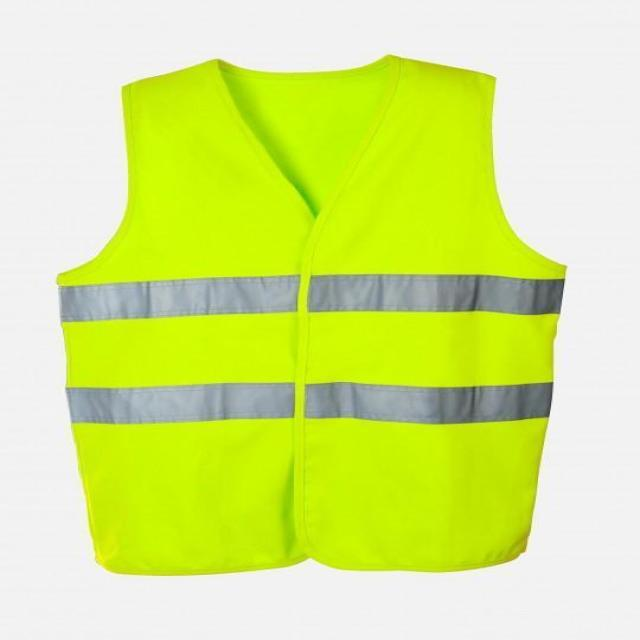Vest: (49, 52, 566, 578)
